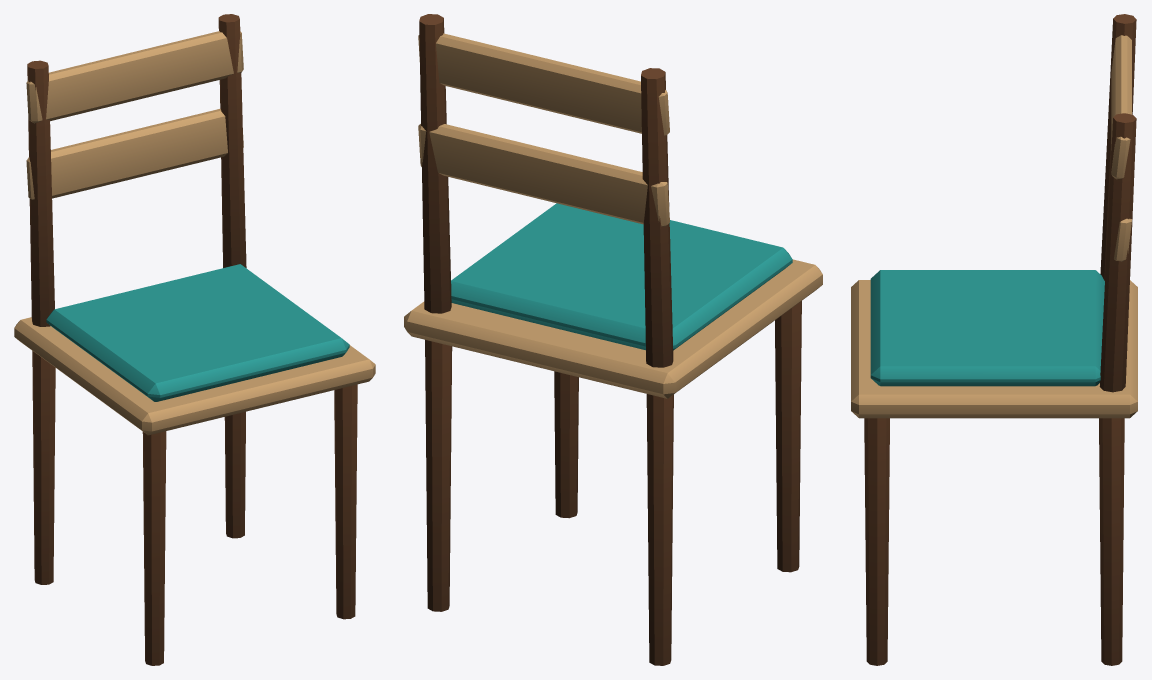
Rendered from chair_01.fbx.
3 views of the same model, side by side, from view 1: azimuth 30°, elevation 25°; view 2: azimuth 150°, elevation 25°; view 3: azimuth 270°, elevation 25° (orthographic). The views are drawn at different scales.
Visible parts, largest first — view 1: chair_01_LOD0; view 2: chair_01_LOD0; view 3: chair_01_LOD0.
Part boxes in pixels (x1,y1,x2,y2): chair_01_LOD0: [14, 14, 375, 665]; chair_01_LOD0: [404, 14, 822, 665]; chair_01_LOD0: [851, 14, 1137, 665].
Size of what is drawn, in the model's own units: 0.44 by 0.9207 by 0.44.
1 material, 1 textured.
